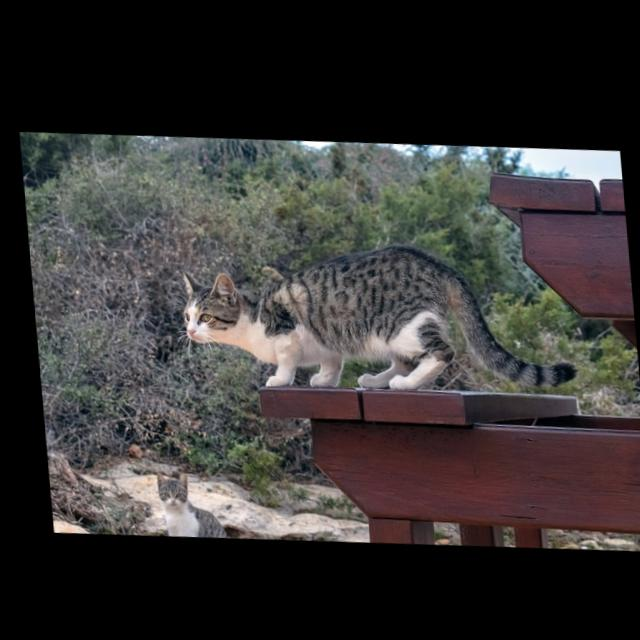animals: (172, 233, 572, 397), (137, 465, 218, 535)
